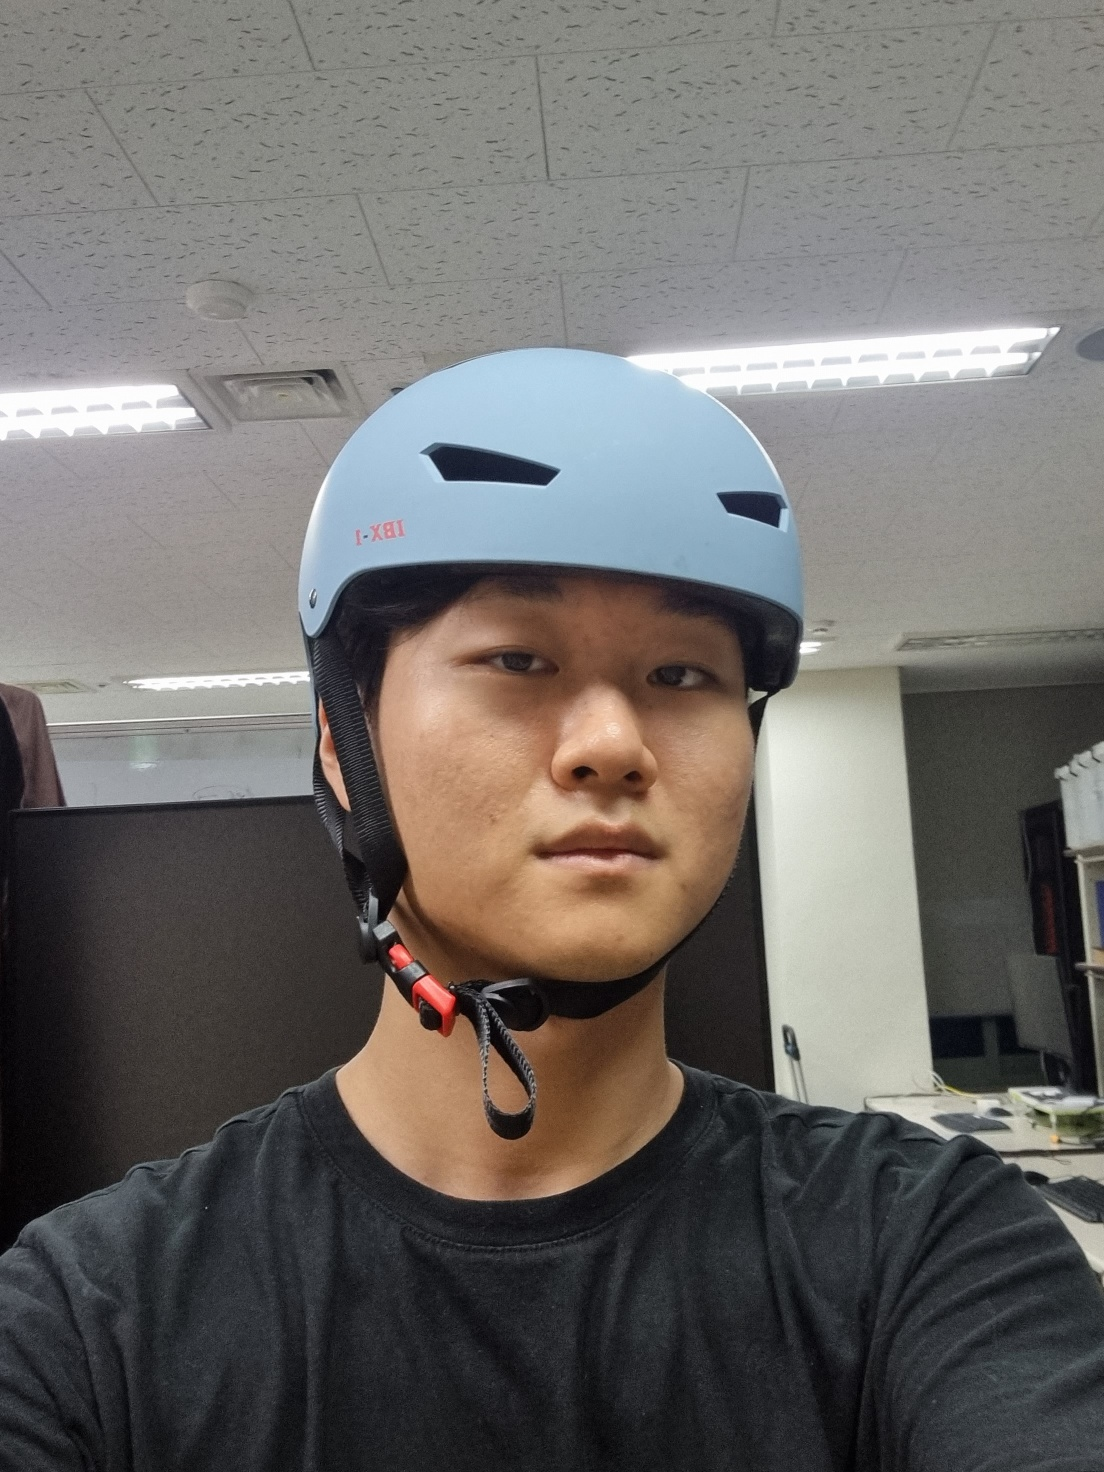Helmet: (277, 296, 833, 1103)
